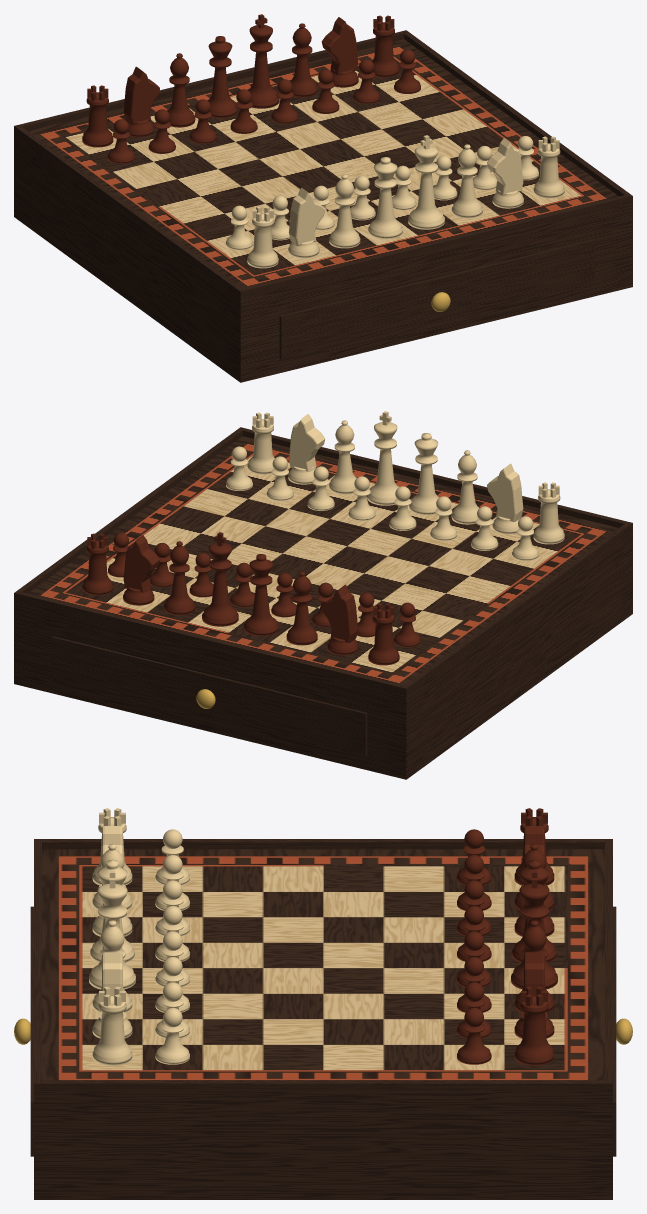
The model's file is philidor-3d-noyer-erable-24-v2.glb.
The picture shows the model from 3 angles, top to bottom: view 1: azimuth 30°, elevation 25°; view 2: azimuth 150°, elevation 25°; view 3: azimuth 270°, elevation 25°; orthographic projection. The views are drawn at different scales.
Visible parts, largest first — view 1: noyer-erable-24; view 2: noyer-erable-24; view 3: noyer-erable-24.
Boxes of the visible parts, x1,y1,x2,y2 form: noyer-erable-24: (14, 14, 632, 382); noyer-erable-24: (14, 411, 632, 779); noyer-erable-24: (14, 808, 632, 1199).
Size of what is drawn, in the model's own units: 0.24 by 0.1 by 0.2567.
6 materials, 3 textured.
